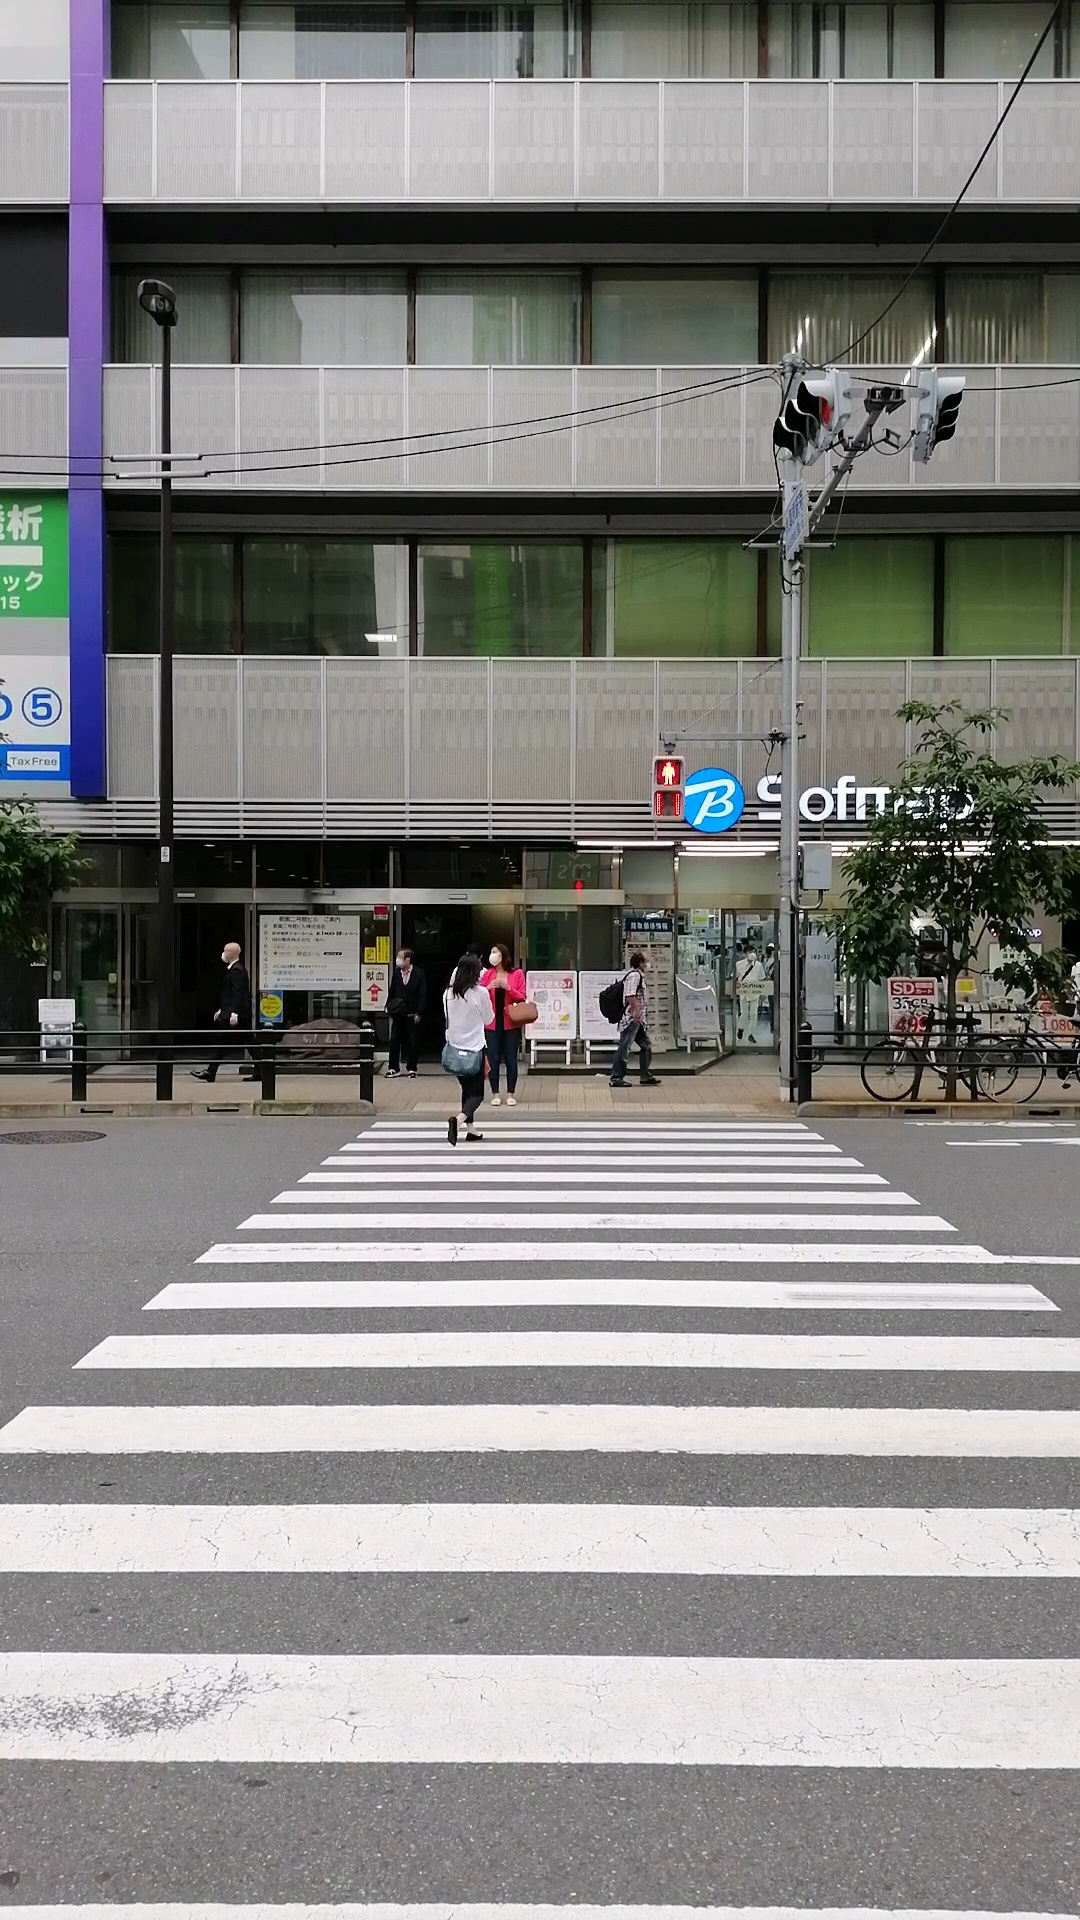red: (651, 756, 684, 822)
